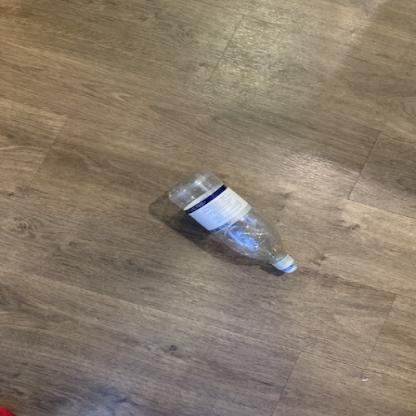trash: (167, 168, 301, 276)
